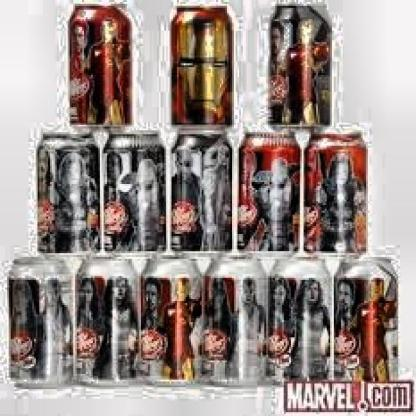Can: (6, 254, 74, 390), (166, 2, 236, 132), (65, 0, 135, 130), (266, 3, 336, 132), (332, 257, 402, 386), (34, 128, 102, 256), (202, 256, 268, 387), (304, 129, 370, 259), (169, 128, 237, 254), (140, 255, 204, 388), (76, 258, 140, 390), (236, 127, 302, 254), (268, 256, 334, 382), (103, 128, 167, 256)
